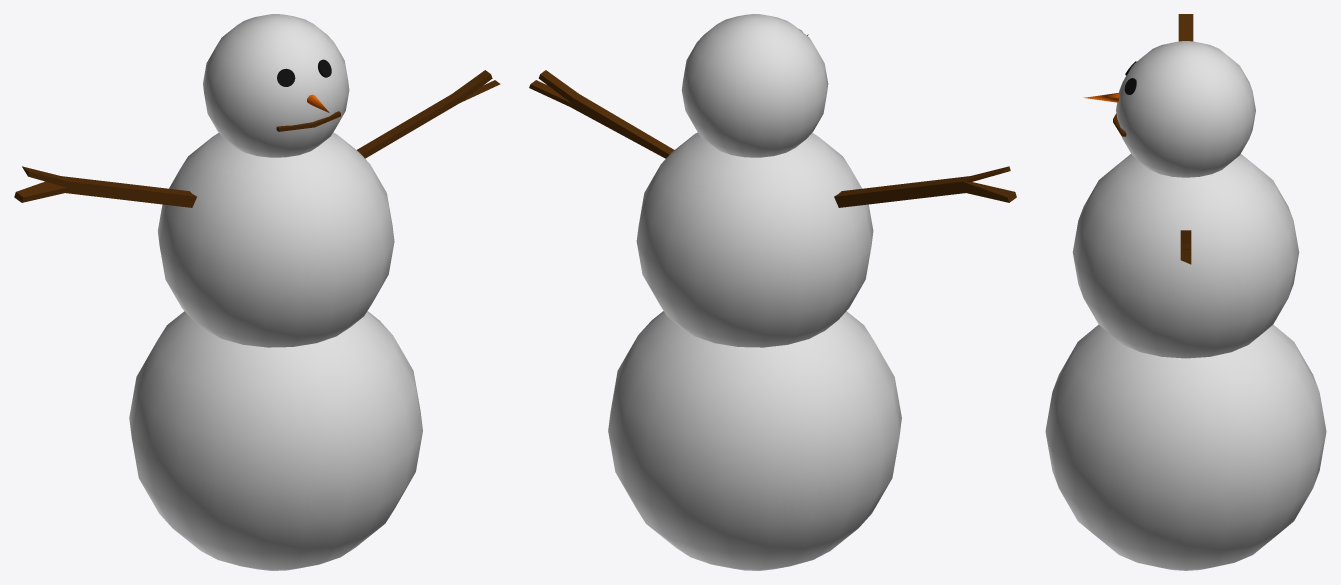
File: snowman_02.fbx
The picture shows the model from 3 angles, left to right: view 1: azimuth 30°, elevation 25°; view 2: azimuth 150°, elevation 25°; view 3: azimuth 270°, elevation 25°; orthographic projection. The views are drawn at different scales.
Parts seen in each view (by area): view 1: snowman; view 2: snowman; view 3: snowman.
Part boxes in pixels (x1,y1,x2,y2): snowman: (14,14,500,570); snowman: (529,14,1016,570); snowman: (1045,14,1326,570).
Bounding box in the file's own units: 0.0675 × 0.0721 × 0.0359.
